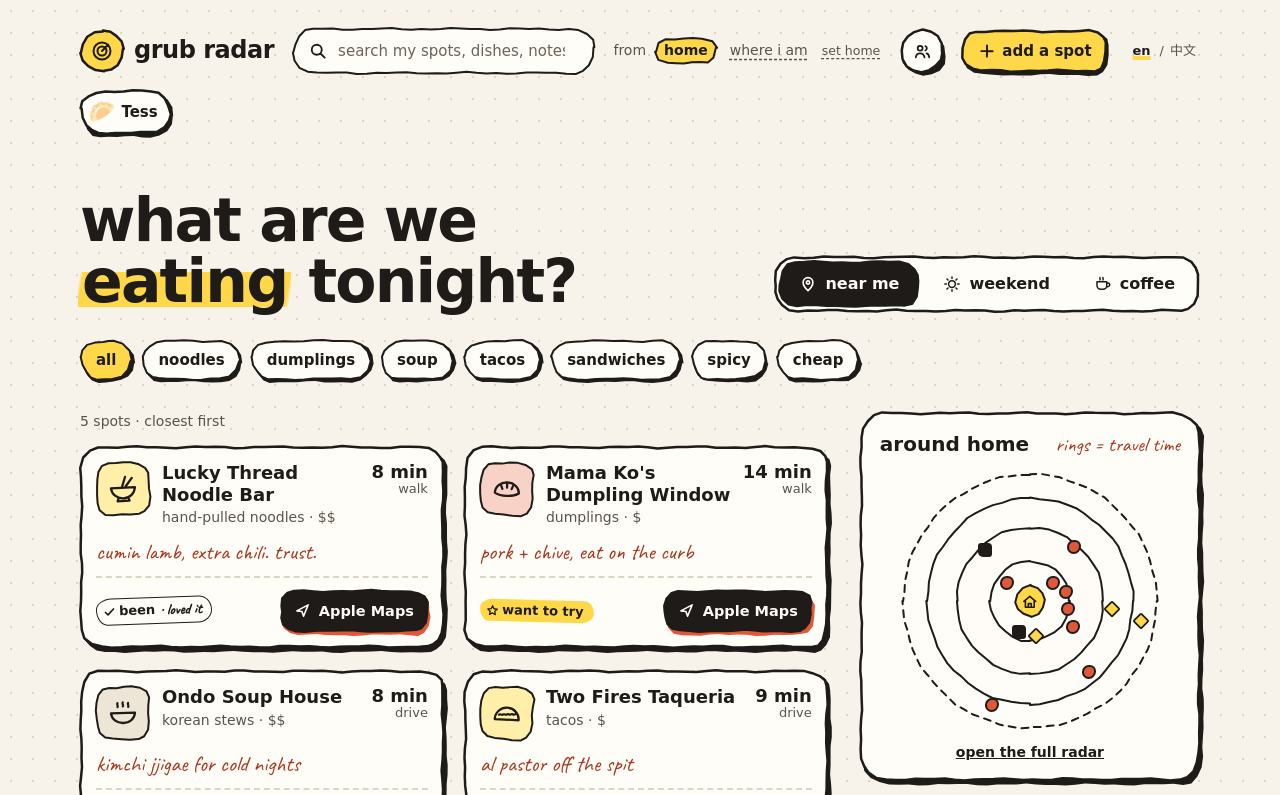
Test case: list page › switches mode and updates headline, chips and URL
The image size is (1280, 795).
Click the button "weekend": (997, 284) [924,261,1070,307]
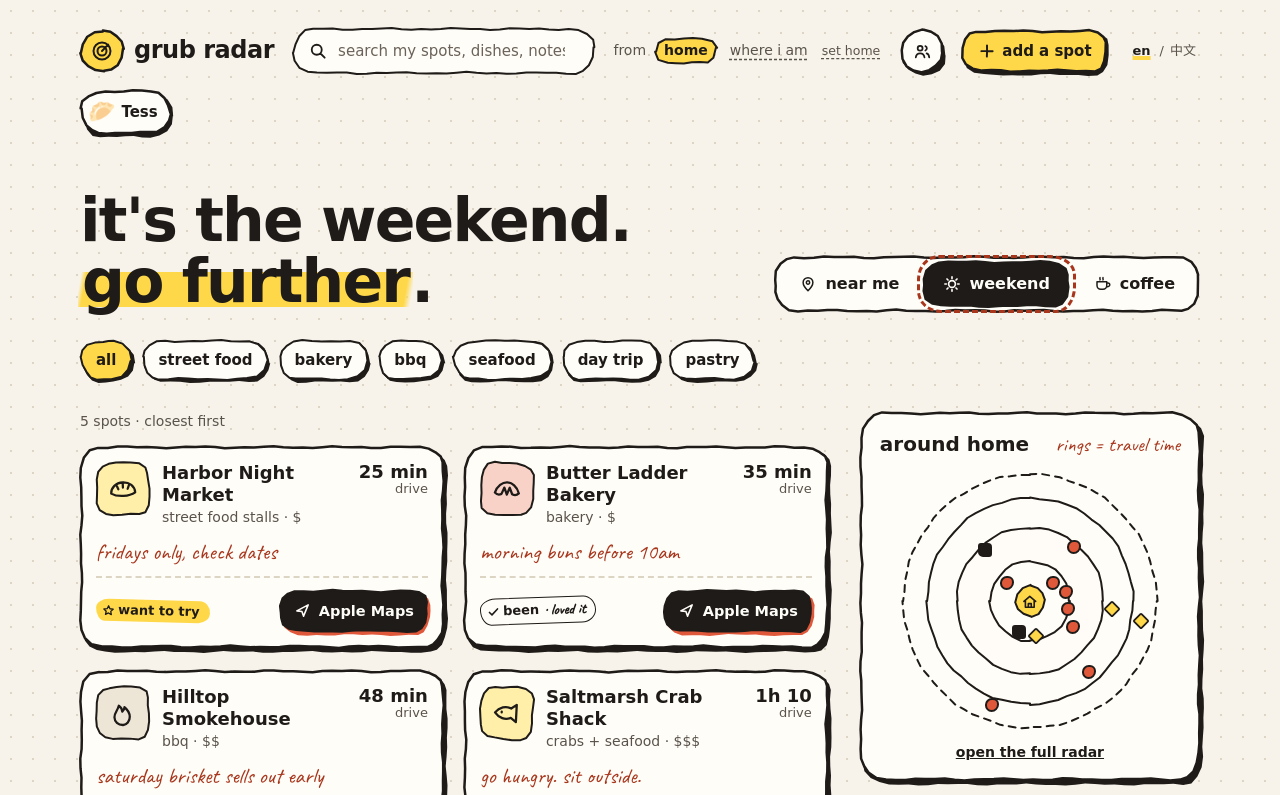
Expected: the text "5 spots · closest first" is shown, [80,412,225,432]
Expected: the heading "it's the weekend. go further ." is shown, [80,190,664,312]
Expected: the link "Harbor Night Market" is shown, [162,462,294,505]
